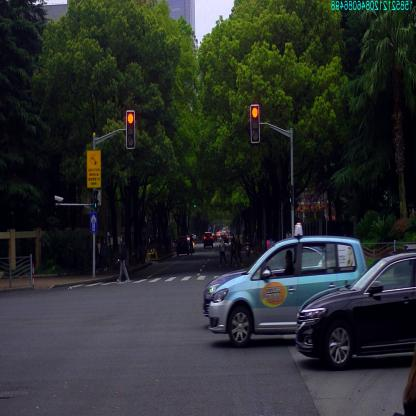traffic-light: (251, 106, 259, 142), (126, 112, 134, 148)
